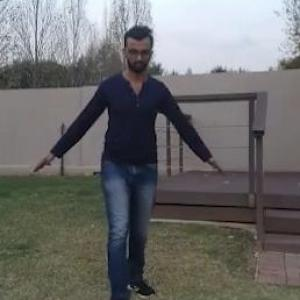land: (29, 25, 215, 299)
